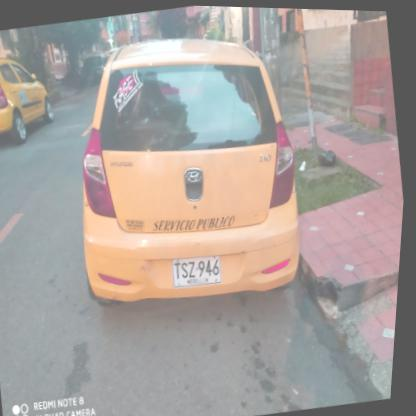placa: (169, 245, 230, 293)
